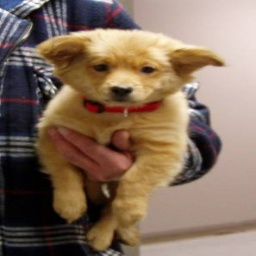dog: (22, 27, 213, 249)
